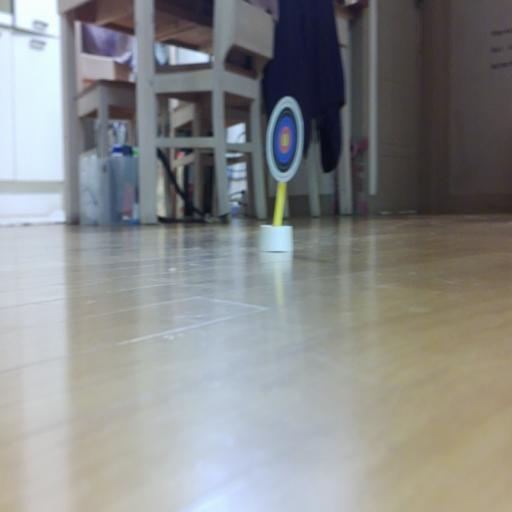target: (266, 96, 304, 182)
